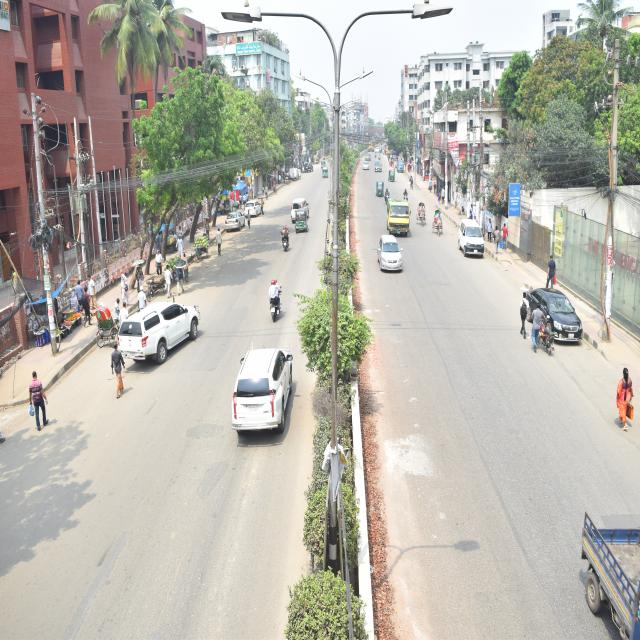car: (229, 337, 298, 443), (112, 290, 206, 365), (518, 274, 588, 352), (371, 228, 406, 282), (224, 206, 246, 245), (241, 193, 269, 218)
microbus: (454, 216, 490, 268), (284, 189, 317, 225)
motorbike: (268, 272, 284, 326), (278, 225, 296, 257)
pickup-van: (573, 475, 640, 640), (382, 189, 414, 242)
